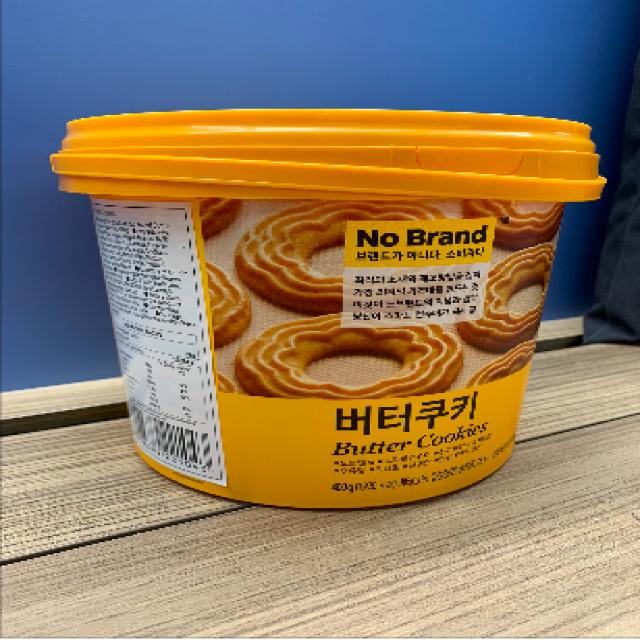object_name: (86, 118, 567, 502)
